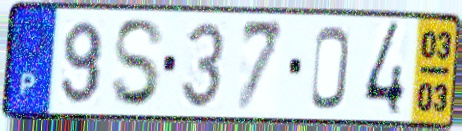0: (309, 24, 353, 112)
3: (176, 19, 229, 111)
4: (361, 19, 408, 119)
7: (237, 16, 286, 115)
9: (61, 18, 106, 108)
S: (109, 17, 168, 111)
